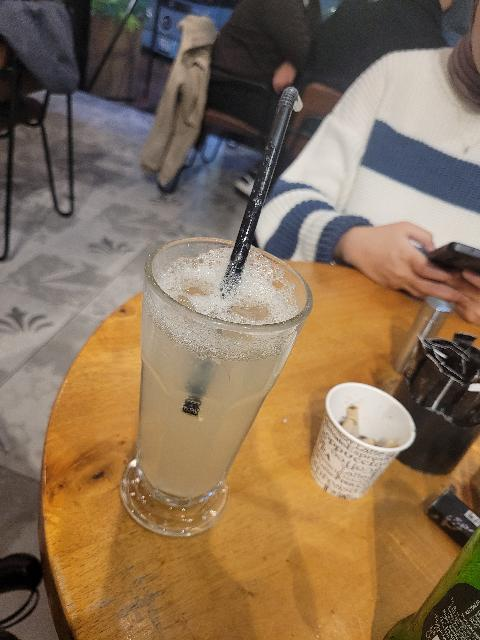Cam: (121, 237, 311, 538)
Kagit: (314, 381, 415, 506)
Metal: (388, 293, 454, 381), (420, 486, 479, 549)
Plastik: (180, 80, 303, 239)
